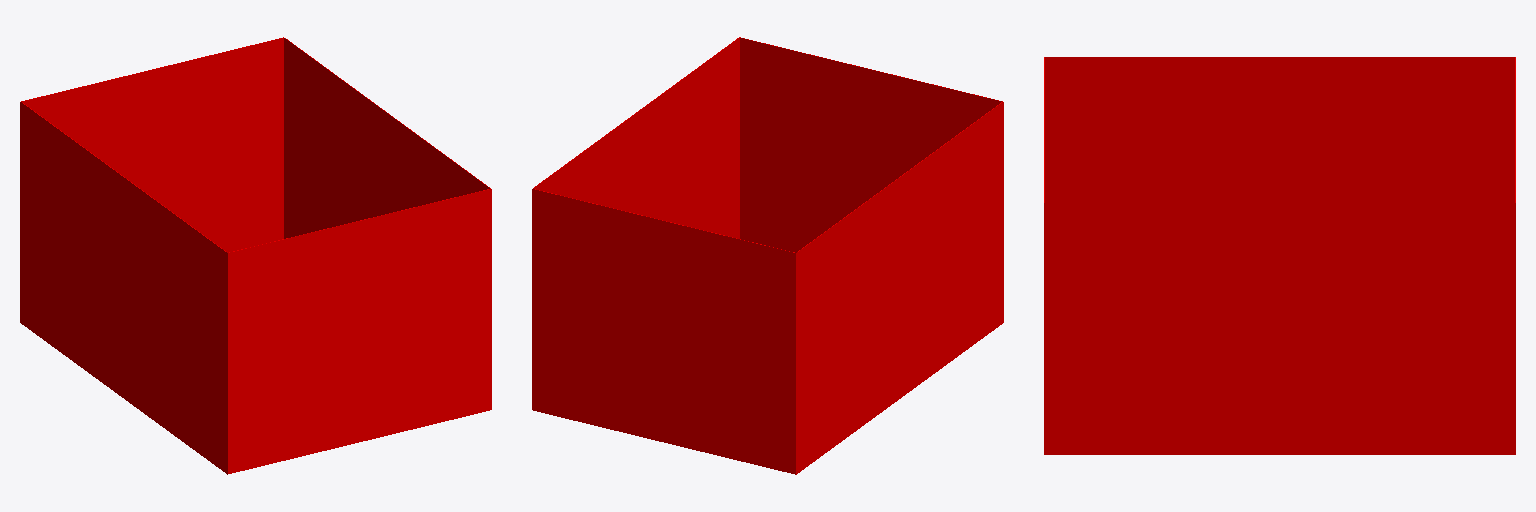
robot.urdf — square.urdf:
<?xml version="1.0" ?>
<robot name="square.urdf">
  <link name="baseLink">
    <contact>
      <lateral_friction value="1.0"/>
      <inertia_scaling value="3.0"/>
    </contact>
    <inertial>
      <origin rpy="0 0 0" xyz="0 0 0"/>
       <mass value=".1"/>
       <inertia ixx="1" ixy="0" ixz="0" iyy="1" iyz="0" izz="1"/>
    </inertial>
    <visual>
      <origin rpy="0 0 0" xyz="0 0 0"/>
      <geometry>
        <mesh filename="4.stl" scale="1 1 1" />
      </geometry>
      <material name="red">
        <color rgba="1 0 0 1"/>
      </material>
    </visual>
    <collision>
      <origin rpy="0 0 0" xyz="0 0 0"/>
      <geometry>
        <mesh filename="4_convex.obj" scale="1 1 1" />
      </geometry>
    </collision>
  </link>
</robot>

--- Facts derived from the render (not from the file) ---
Views: 3 orthographic renders of the robot side by side, from view 1: azimuth 30°, elevation 25°; view 2: azimuth 150°, elevation 25°; view 3: azimuth 270°, elevation 25°.
Robot: square.urdf — 1 links, 0 joints (none); root link baseLink; default pose: all joints at 0.
Links seen in each view (by area): view 1: baseLink; view 2: baseLink; view 3: baseLink.
Boxes of the visible links, box(x1,y1,x2,y2) form: baseLink: box(20, 37, 491, 474); baseLink: box(532, 37, 1003, 474); baseLink: box(1044, 57, 1515, 454).
Bounding box of the posed robot: 0.4461 × 0.6062 × 0.3576 m (x, y, z).
1 mesh visuals loaded from 1 distinct referenced files (1 binary STL).